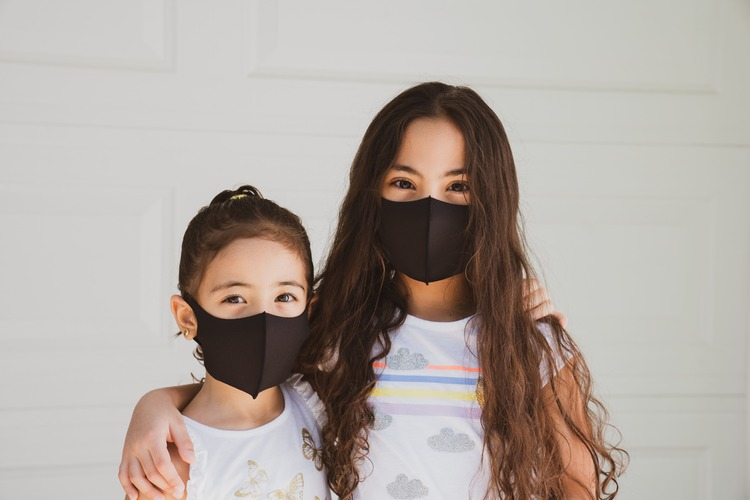with_mask: (197, 259, 306, 392), (379, 130, 472, 284)
